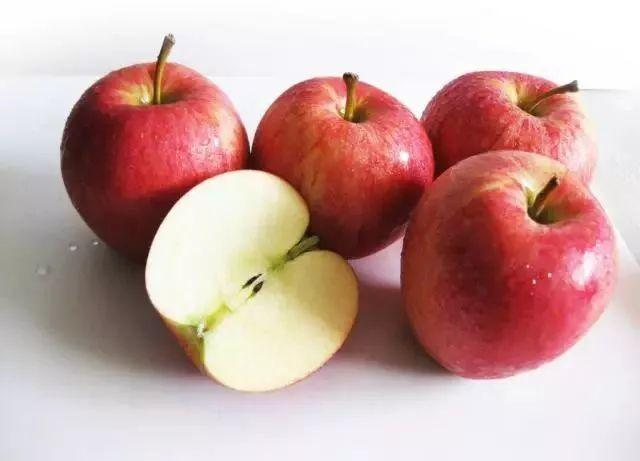apple: (412, 149, 640, 380), (59, 51, 248, 266), (268, 72, 447, 256), (437, 69, 611, 187)
